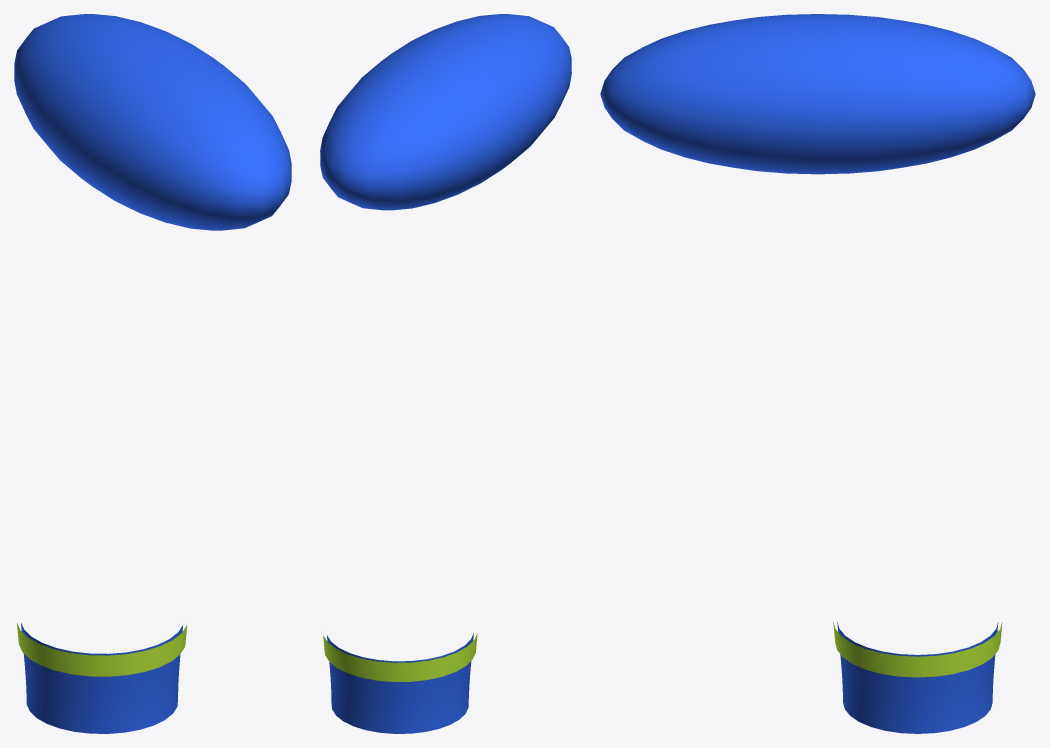
File: socks_ankle_female.glb
3 renders of one model, left to right at view 1: azimuth 30°, elevation 25°; view 2: azimuth 150°, elevation 25°; view 3: azimuth 270°, elevation 25°, orthographic. The views are drawn at different scales.
Parts seen in each view (by area): view 1: sock_foot, sock, sock_band; view 2: sock_foot, sock, sock_band; view 3: sock_foot, sock, sock_band.
Part boxes in pixels (x1=…): sock_foot: x1=14, y1=14, x2=291, y2=230; sock: x1=21, y1=623, x2=182, y2=733; sock_band: x1=17, y1=623, x2=186, y2=676; sock_foot: x1=320, y1=14, x2=571, y2=210; sock: x1=327, y1=633, x2=473, y2=733; sock_band: x1=323, y1=633, x2=477, y2=681; sock_foot: x1=600, y1=14, x2=1035, y2=174; sock: x1=837, y1=622, x2=998, y2=733; sock_band: x1=833, y1=622, x2=1002, y2=677.
Size of the model in its own units: 0.098 by 0.374 by 0.218.
